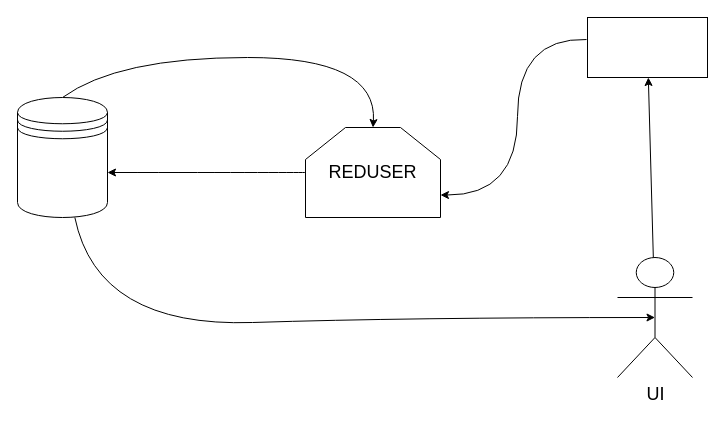
This 725x424 diagram has some shape labels left out. Here are the shapes that lost their labels. From the top down, the box of each, then its label:
(586, 16, 708, 78): ACTION
(16, 96, 108, 218): STORE
